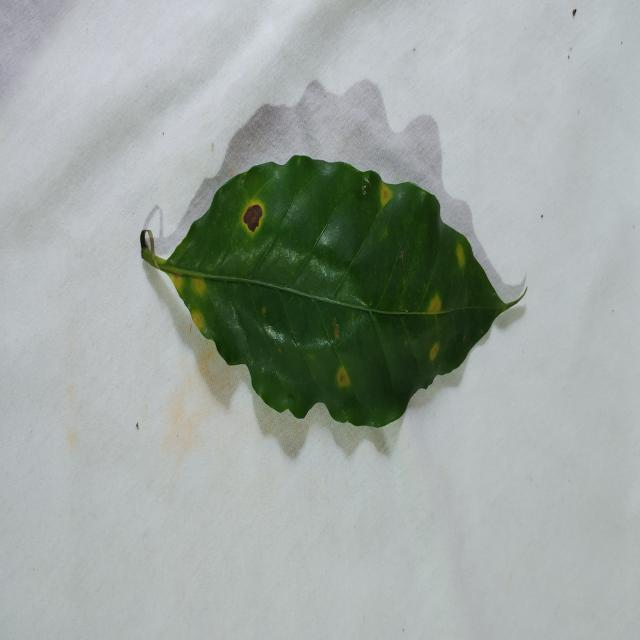Enfermedad-Roya: (140, 156, 528, 435)
